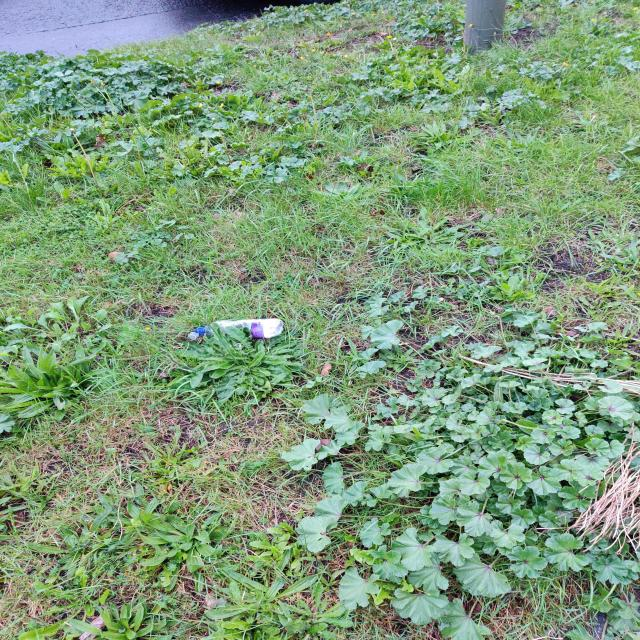litter: (206, 319, 284, 338), (188, 326, 206, 339)
